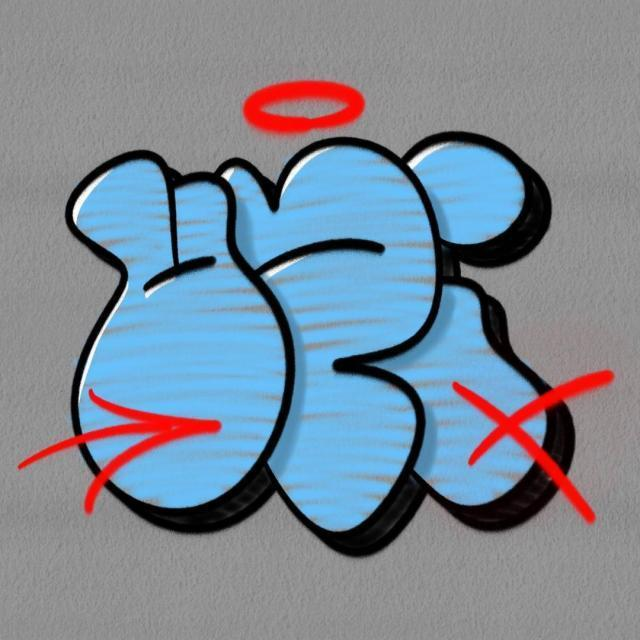-: (59, 30, 612, 566)
